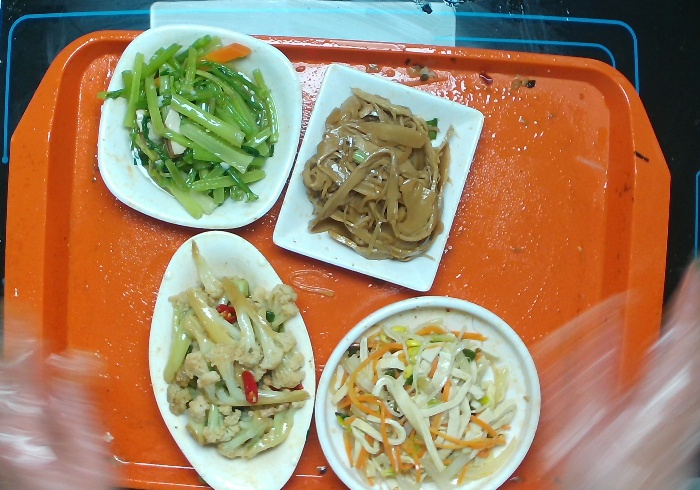HZYJPL-Si_Fang_Die: (269, 60, 485, 296)
HZYJPL-Si_Fang_Yuan_Die: (92, 22, 301, 231)
HZYJPL-Xiao_Yu_Die: (144, 231, 317, 490)
HZYJPL-Xiao_Yuan_Die: (315, 295, 544, 490)
